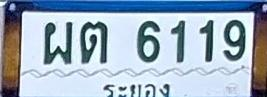1: (198, 18, 214, 62), (170, 20, 185, 62)
6: (137, 20, 160, 62)
9: (223, 18, 245, 60)
A21: (80, 21, 108, 64)
A28: (44, 20, 72, 64)
RYG: (98, 79, 173, 97)
